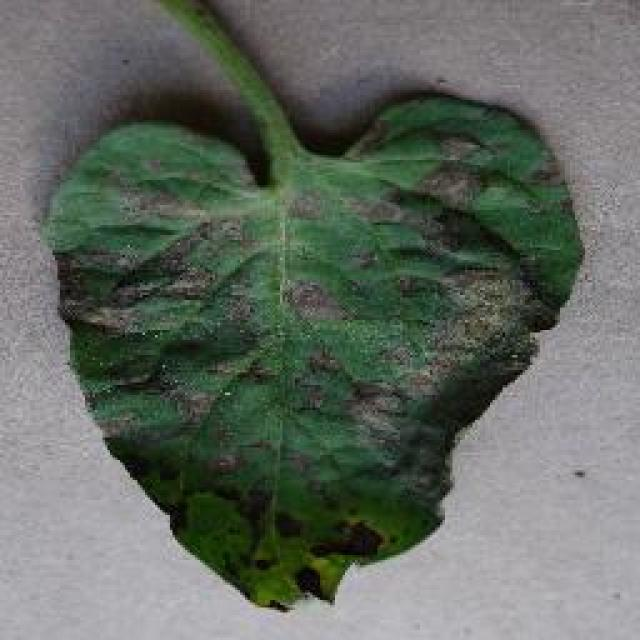Tomato___Early_blight: (45, 0, 589, 614)
